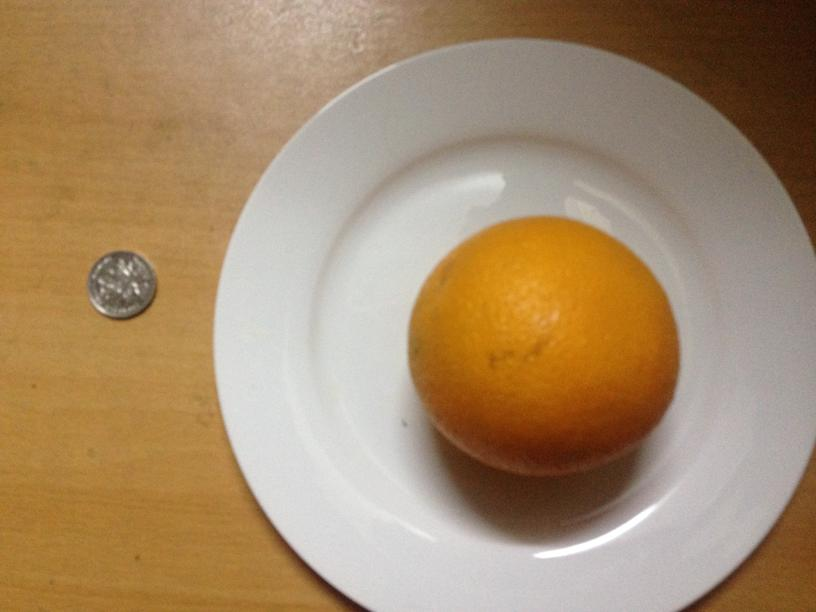coin: (87, 251, 156, 319)
orange: (406, 216, 682, 478)
